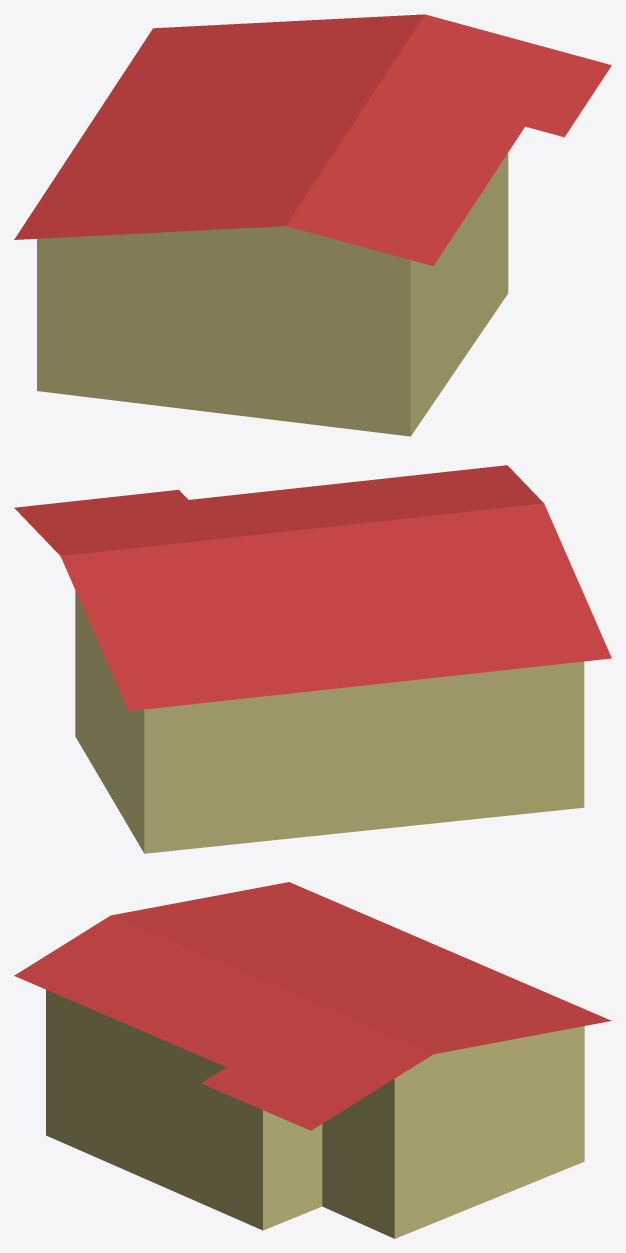
3 views of the same model, one above another, from view 1: azimuth 30°, elevation 25°; view 2: azimuth 150°, elevation 25°; view 3: azimuth 270°, elevation 25° (orthographic). The views are drawn at different scales.
Visible parts, largest first — view 1: group_3, group_5, group_4; view 2: group_3, group_5, group_4; view 3: group_5, group_3, group_4.
Part boxes in pixels (box(x1,y1,x2,y2)): group_3: box(37, 14, 611, 265); group_5: box(37, 153, 508, 436); group_4: box(14, 14, 610, 239); group_3: box(14, 465, 583, 706); group_5: box(75, 590, 584, 853); group_4: box(14, 498, 611, 710); group_5: box(46, 989, 584, 1238); group_3: box(14, 891, 583, 1130); group_4: box(106, 882, 611, 1130).
Bounding box in the file's own units: 23.37 × 22.39 × 7.51.
